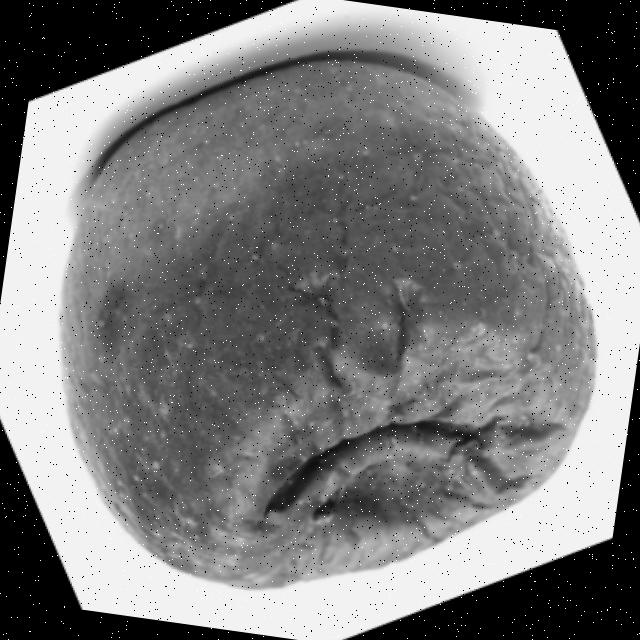Rotten: (15, 18, 640, 640)
